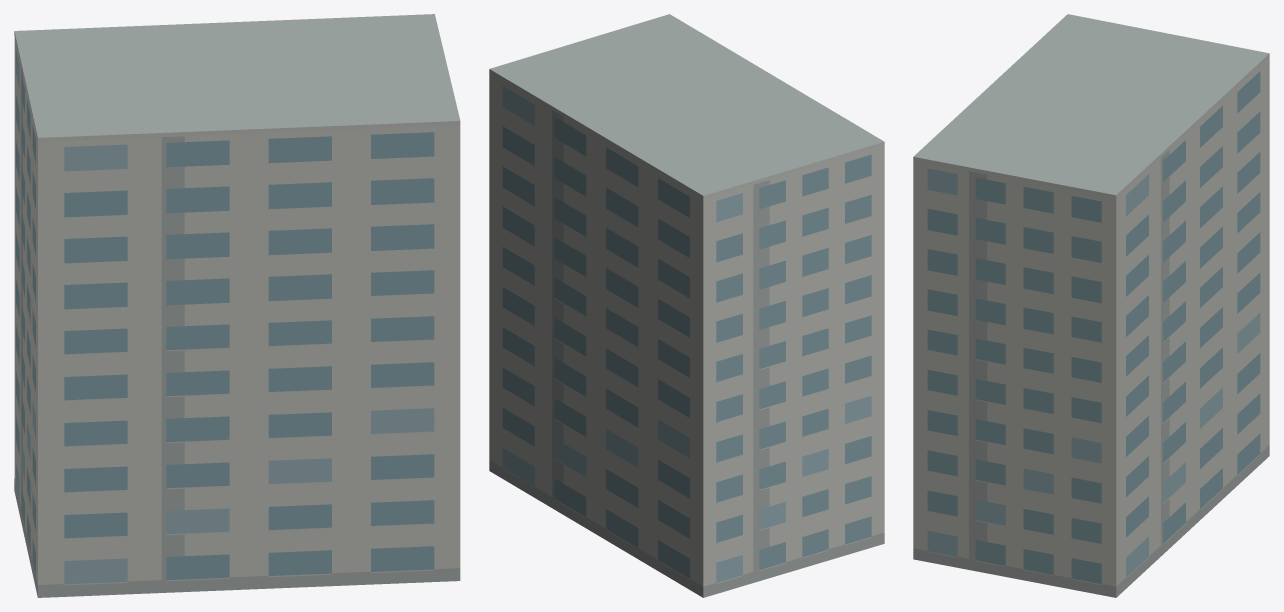
Rendered from residential-81b06238-caa2-4773-8b7b-c7f46050ee80.glb.
3 renders of one model, left to right at view 1: azimuth 30°, elevation 25°; view 2: azimuth 150°, elevation 25°; view 3: azimuth 270°, elevation 25°, orthographic. The views are drawn at different scales.
Parts seen in each view (by area): view 1: residential-81b06238-caa2-4773-8b7b-c7f46050ee80.tmp; view 2: residential-81b06238-caa2-4773-8b7b-c7f46050ee80.tmp; view 3: residential-81b06238-caa2-4773-8b7b-c7f46050ee80.tmp.
Part boxes in pixels (left/top/right/bottom): residential-81b06238-caa2-4773-8b7b-c7f46050ee80.tmp: left=14, top=14, right=460, bottom=597; residential-81b06238-caa2-4773-8b7b-c7f46050ee80.tmp: left=489, top=14, right=884, bottom=597; residential-81b06238-caa2-4773-8b7b-c7f46050ee80.tmp: left=913, top=14, right=1269, bottom=597.
Bounding box in the file's own units: 25.13 × 26 × 20.87.
